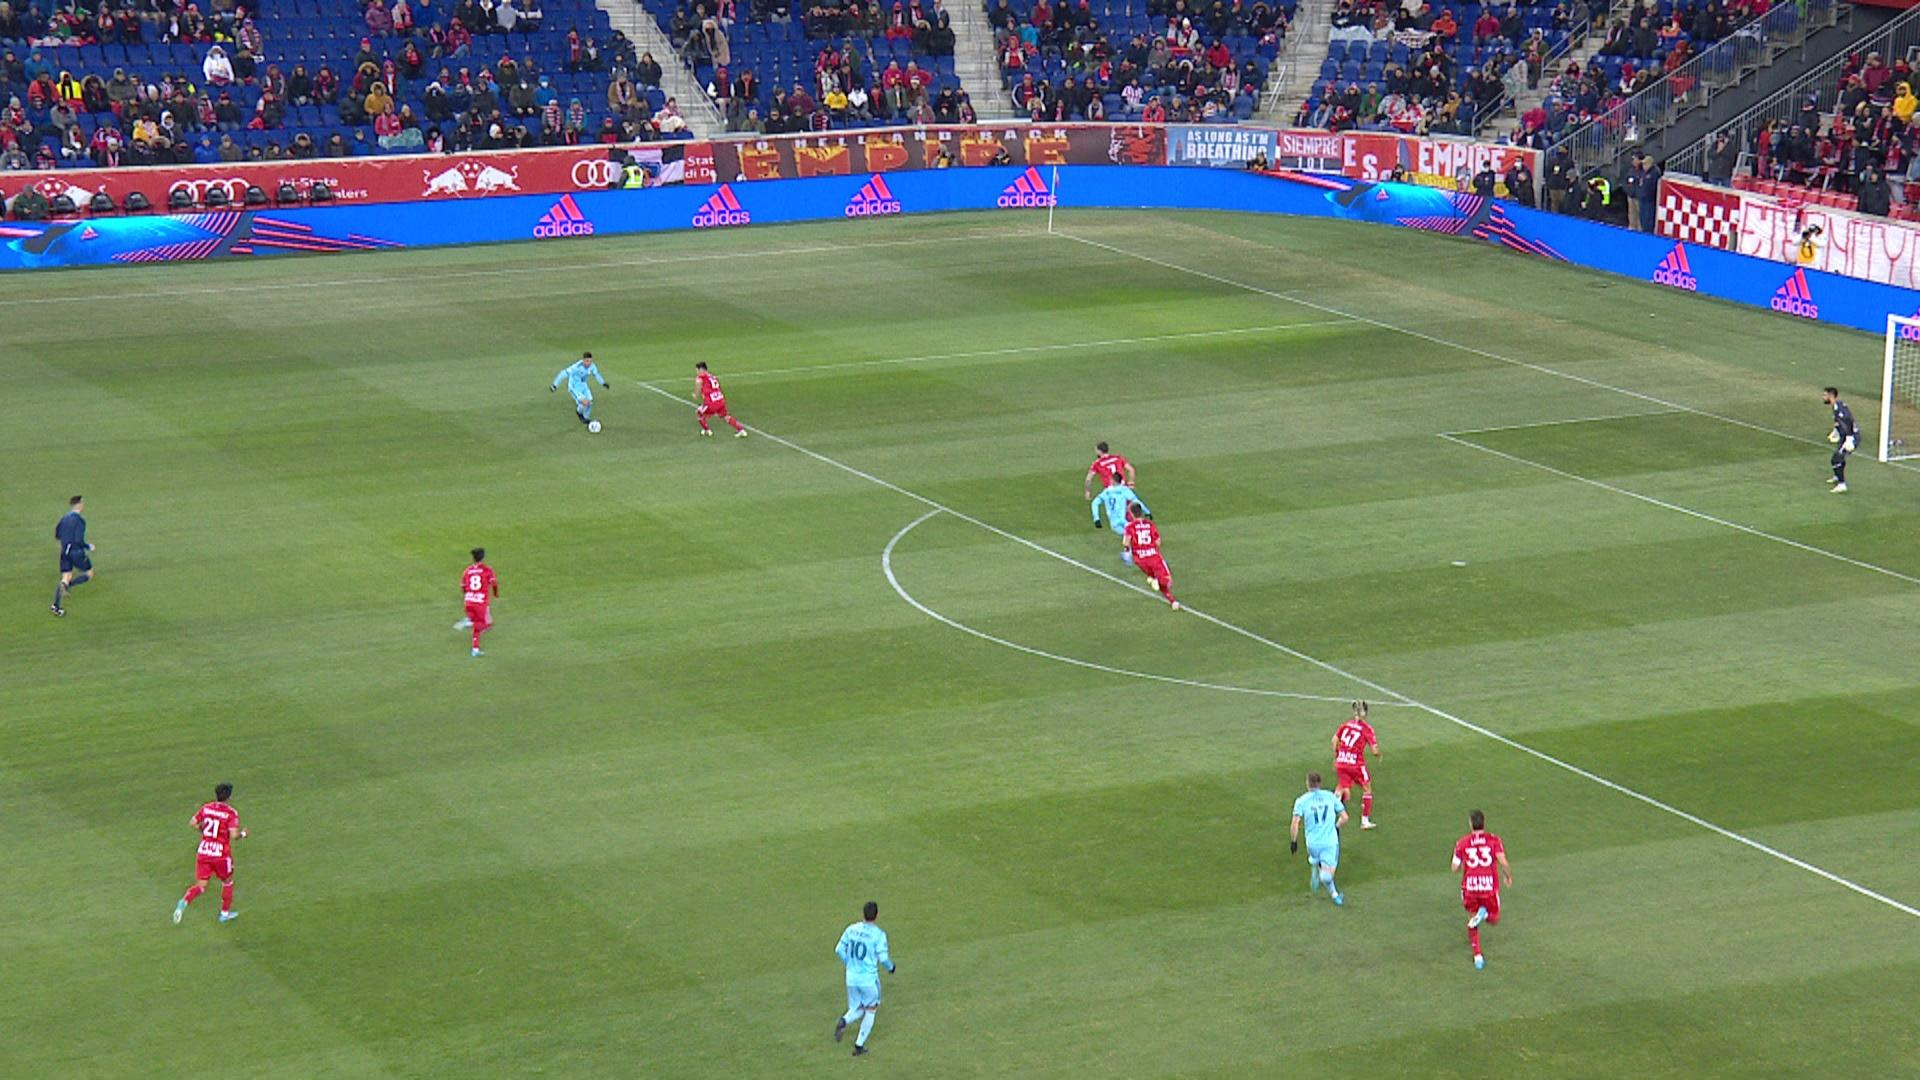football: (588, 419, 601, 434)
